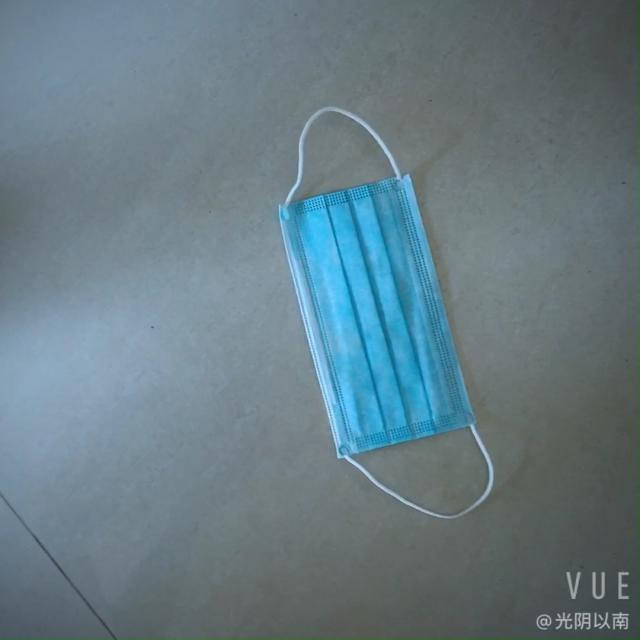non-organic waste: (272, 168, 486, 459)
